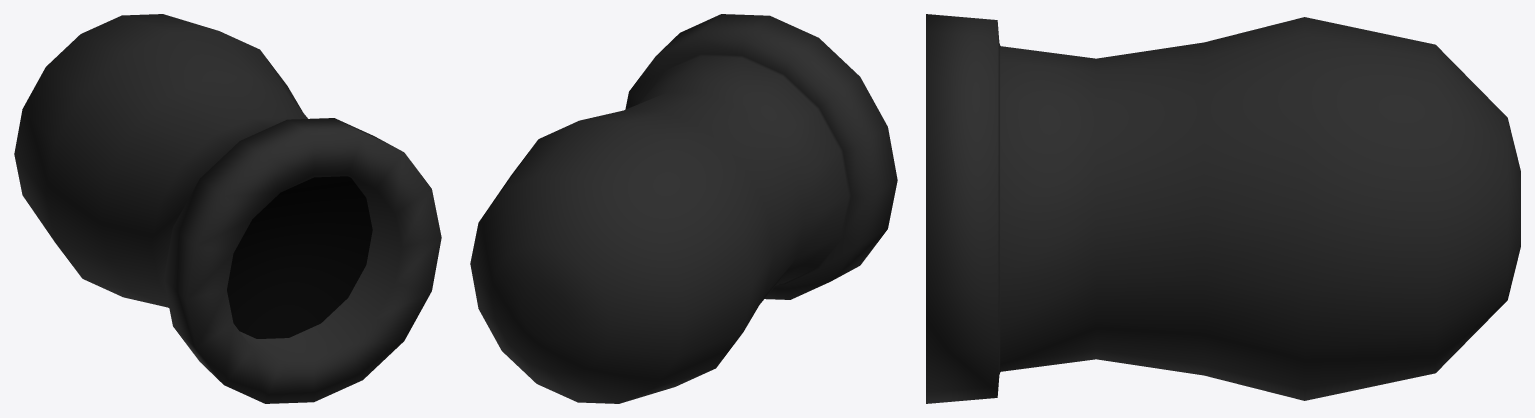
The model's file is Cannon.fbx.
3 views of the same model, side by side, from view 1: azimuth 30°, elevation 25°; view 2: azimuth 150°, elevation 25°; view 3: azimuth 270°, elevation 25° (orthographic). The views are drawn at different scales.
Parts seen in each view (by area): view 1: Cannon; view 2: Cannon; view 3: Cannon.
Part boxes in pixels (x1=…): Cannon: x1=14, y1=14, x2=441, y2=403; Cannon: x1=470, y1=14, x2=897, y2=403; Cannon: x1=926, y1=14, x2=1520, y2=403.
Bounding box in the file's own units: 228 × 228 × 347.
